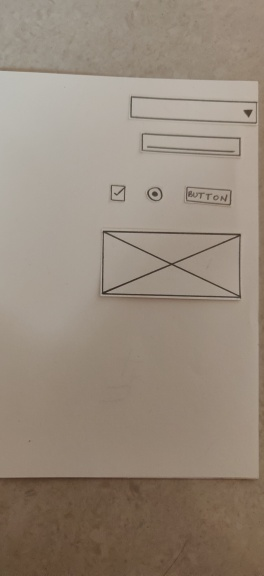button: (182, 182, 235, 208)
checkbox: (107, 181, 128, 205)
dropdown: (127, 91, 260, 126)
img: (98, 227, 245, 304)
radio: (145, 183, 165, 204)
text: (137, 130, 245, 160)
